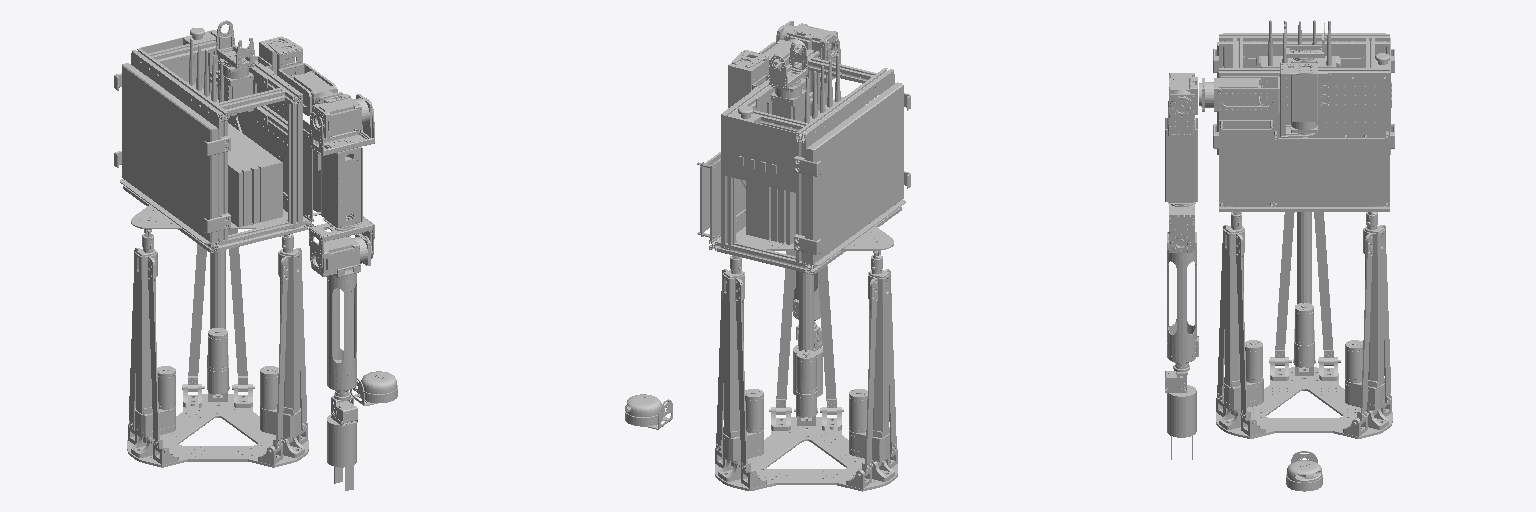
robot.urdf — hrvl_gbot:
<?xml version="1.0" ?>
<robot name="hrvl_gbot">
    <material name="orange">
        <color rgba="0.57 0.17 0.0 1.0" />
    </material>
    <material name="white">
        <color rgba="0.8 0.8 0.8 1.0" />
    </material>
    <material name="whiteT">
        <color rgba="0.8 0.8 0.8 0.5" />
    </material>
    <material name="steel">
        <color rgba="0.75 0.75 0.75 0.30" />
    </material>
    <material name="gray">
        <color rgba="0.2 0.2 0.2 0.9" />
    </material>
    <material name="black">
        <color rgba="0.0 0.0 0.0 1.0" />
    </material>
    <link name="base_footprint" />
    <link name="wheel1">
        <visual>
            <geometry>
                <mesh filename="package://onine_description/stl/MPO-500-WHEEL.dae" scale="-0.0006 0.0005 0.0006" />
            </geometry>
            <material name="white" />
            <origin rpy="0 0 0" xyz="0 0 0" />
        </visual>
        
	<inertial>
            <mass value="0.1" />
            <inertia ixx="0.03" iyy="0.03" izz="0.03" ixy="0.0" ixz="0.0" iyz="0.0" />
        </inertial>

    </link>
    <joint name="wheel1_joint" type="continuous">
        <axis xyz="0 1 0" />
        <limit effort="1000.0" velocity="1.0" />
        <origin rpy="0 0 0" xyz="0.20 0.225 -0.02" />
        <parent link="base_footprint" />
        <child link="wheel1" />
    </joint>
    <link name="wheel2">
        <visual>
            <geometry>
                <mesh filename="package://onine_description/stl/MPO-500-WHEEL.dae" scale="0.0006 0.0005 0.0006" />
            </geometry>
            <material name="white" />
            <origin rpy="0 0 0" xyz="0 0 0" />
        </visual>
        
<inertial>
            <mass value="0.1" />
            <inertia ixx="0.03" iyy="0.03" izz="0.03" ixy="0.0" ixz="0.0" iyz="0.0" />
        </inertial>

    </link>
    <joint name="wheel2_joint" type="continuous">
        <axis xyz="0 1 0" />
        <limit effort="1000.0" velocity="1.0" />
        <origin rpy="0 0 0" xyz="0.20 -0.225 -0.02" />
        <parent link="base_footprint" />
        <child link="wheel2" />
    </joint>
    <link name="wheel3">
        <visual>
            <geometry>
                <mesh filename="package://onine_description/stl/MPO-500-WHEEL.dae" scale="0.0006 0.0005 0.0006" />
            </geometry>
            <material name="white" />
            <origin rpy="0 0 0" xyz="0 0 0" />
        </visual>
        
<inertial>
            <mass value="0.1" />
            <inertia ixx="0.03" iyy="0.03" izz="0.03" ixy="0.0" ixz="0.0" iyz="0.0" />
        </inertial>

    </link>
    <joint name="wheel3_joint" type="continuous">
        <axis xyz="0 1 0" />
        <limit effort="1000.0" velocity="1.0" />
        <origin rpy="0 0 0" xyz="-0.20 0.225 -0.02" />
        <parent link="base_footprint" />
        <child link="wheel3" />
    </joint>
    <link name="wheel4">
        <visual>
            <geometry>
                <!--<cylinder length="0.055" radius=".075" /> -->
                <mesh filename="package://onine_description/stl/MPO-500-WHEEL.dae" scale="-0.0006 0.0005 0.0006" />
            </geometry>
            <material name="white" />
            <origin rpy="0 0 0" xyz="0 0 0" />
        </visual>
        
<inertial>
            <mass value="0.1" />
            <inertia ixx="0.03" iyy="0.03" izz="0.03" ixy="0.0" ixz="0.0" iyz="0.0" />
        </inertial>

    </link>
    <joint name="wheel4_joint" type="continuous">
        <axis xyz="0 1 0" />
        <limit effort="1000.0" velocity="1.0" />
        <origin rpy="0 0 0" xyz="-0.20 -0.225 -0.02" />
        <parent link="base_footprint" />
        <child link="wheel4" />
    </joint>
    <!-- Sensors -->
    <link name="rotlidar_link">
        <visual>
            <geometry>
                <!--<cylinder length="0.055" radius=".075" /> -->
                <mesh filename="package://onine_description/stl/RotatingLidar3_front_only.STL" scale="0.001 0.001 0.001" />
            </geometry>
            <material name="white" />
            <origin rpy="0 0 0" xyz="-0.0513 -0.0278 -0.033" />
        </visual>
        
<inertial>
            <mass value="0.1" />
            <inertia ixx="0.03" iyy="0.03" izz="0.03" ixy="0.0" ixz="0.0" iyz="0.0" />
        </inertial>

    </link>
    <joint name="rotlidar_joint" type="revolute">
        <axis xyz="1 0 0" />
        <limit effort="1000.0" lower="-3.141592" upper="3.141592" velocity="1.0" />
        <origin rpy="0 0 0" xyz="0.3133 0 0.26475" />
        <parent link="base_footprint" />
        <child link="rotlidar_link" />
    </joint>
    <link name="base_link">
        <visual>
            <geometry>
                <mesh filename="package://onine_description/stl/MobilePlatform_BodyOnly.STL" scale="0.001 0.001 0.001" />
            </geometry>
            <material name="white" />
            <origin rpy="0 -1.570796 3.141592" xyz="-0.2 0 0" />
        </visual>
        
<inertial>
            <mass value="0.1" />
            <inertia ixx="0.03" iyy="0.03" izz="0.03" ixy="0.0" ixz="0.0" iyz="0.0" />
        </inertial>

    </link>
    <joint name="base_link_joint" type="fixed">
        <axis xyz="0 0 1" />
        <origin rpy="0 0 0" xyz="0 0 0" />
        <parent link="base_footprint" />
        <child link="base_link" />
    </joint>
    <link name="waist_link">
        <visual>
            <geometry>
                <mesh filename="package://onine_description/stl/Waist_Final_Simple.STL" scale="0.001 0.001 0.001" />
            </geometry>
            <material name="white" />
            <origin rpy="1.570796 0 1.570796 " xyz="-0.205 0 -0.136" />
        </visual>
        
<inertial>
            <mass value="0.1" />
            <inertia ixx="0.03" iyy="0.03" izz="0.03" ixy="0.0" ixz="0.0" iyz="0.0" />
        </inertial>

    </link>
    <joint name="waist_link_joint" type="fixed">
        <axis xyz="0 0 1" />
        <origin rpy="0 0 0" xyz="-0.016 0 0.365" />
        <parent link="base_link" />
        <child link="waist_link" />
    </joint>
    <link name="torso_link_x" />
    <joint name="torso_joint_x" type="revolute">
        <axis xyz="1 0 0" />
        <origin rpy="0 0 0" xyz="-0.016 0 0.730" />
        <limit effort="1000.0" lower="-0.33" upper="0.33" velocity="1.0" />
        <parent link="base_footprint" />
        <child link="torso_link_x" />
    </joint>
    <link name="torso_link_y">
        <visual>
            <geometry>
                <mesh filename="package://onine_description/stl/BodyBox.STL" scale="0.001 0.001 0.001" />
            </geometry>
            <material name="white" />
            <!--<origin rpy="0 0 0" xyz="0 0 0.5125" />-->
            <origin rpy="1.570796 0 1.570796" xyz="0 0 0" />
        </visual>
        
<inertial>
            <mass value="0.1" />
            <inertia ixx="0.03" iyy="0.03" izz="0.03" ixy="0.0" ixz="0.0" iyz="0.0" />
        </inertial>

    </link>
    <joint name="torso_joint_y" type="revolute">
        <axis xyz="0 1 0" />
        <origin rpy="0 0 0" xyz="0 0 0" />
        <limit effort="1000.0" lower="-0.25" upper="0.3" velocity="1.0" />
        <parent link="torso_link_x" />
        <child link="torso_link_y" />
    </joint>
    <link name="neck_link_z">
        <visual>
            <geometry>
                <!--> <box size="0.054 0.054 0.138" /> -->
                <mesh filename="package://onine_description/stl/FRP42-H210_with_axis.STL" scale="0.001 0.001 0.001" />
            </geometry>
            <material name="white" />
            <origin rpy="1.570796 0 1.570796" xyz="-0.021 -0.0415 -0.052" />
            <!--<origin rpy="1.570796 0 1.570796" xyz="0 0 0" /> -->
        </visual>
        
<inertial>
            <mass value="0.1" />
            <inertia ixx="0.03" iyy="0.03" izz="0.03" ixy="0.0" ixz="0.0" iyz="0.0" />
        </inertial>

    </link>
    <joint name="neck_joint_z" type="revolute">
        <axis xyz="0 0 1" />
        <origin rpy="0 0 0" xyz="0 0 0.370" />
	<!-- +- 110 degrees -->
        <limit effort="1000.0" lower="-1.91" upper="1.91" velocity="1.0" />
        <parent link="torso_link_y" />
        <child link="neck_link_z" />
    </joint>
    <link name="neck_link_y">
        <visual>
            <geometry>
                <!--><box size="0.042 0.042 0.0835" /> -->
                <mesh filename="package://onine_description/stl/Head_PanTiltModule_Fixed.STL" scale="0.001 0.001 0.001" />
            </geometry>
            <material name="white" />
            <!--<origin rpy="0 0 0" xyz="0 0 0.5125" />-->
            <origin rpy="1.570796 0 1.570796" xyz="0 0 0" />
        </visual>
        
<inertial>
            <mass value="0.1" />
            <inertia ixx="0.03" iyy="0.03" izz="0.03" ixy="0.0" ixz="0.0" iyz="0.0" />
        </inertial>

    </link>
    <joint name="neck_joint_y" type="revolute">
        <axis xyz="0 1 0" />
        <origin rpy="0 0 0" xyz="0 0 0" />
	<!-- -30 ~ 70 degrees -->
        <limit effort="1000.0" lower="-0.523" upper="1.22" velocity="1.0" />
        <parent link="neck_link_z" />
        <child link="neck_link_y" />
    </joint>
    <link name="lidar_link" />
    <joint name="lidar_joint" type="fixed">
        <axis xyz="0 0 1" />
        <origin rpy="0 0 0" xyz="0 0 0.07" />
        <parent link="neck_link_y" />
        <child link="lidar_link" />
    </joint>
    <link name="kinect_link" />
    <joint name="kinect_joint" type="fixed">
        <axis xyz="1 0 0" />
        <!--origin rpy="0 0 0" xyz="0.095 0 0.155" /-->
        <origin rpy="0 0 0" xyz="0.095 0 0.155" />
        <parent link="neck_link_y" />
        <child link="kinect_link" />
    </joint>
    <link name="zed_link" />
    <joint name="zed_joint" type="fixed">
        <axis xyz="1 0 0" />
        <!--origin rpy="0 0 0" xyz="0.1 0 0.200" /-->
        <origin rpy="0 1.570796 0" xyz="0.1 0 0.200" />
        <parent link="neck_link_y" />
        <child link="zed_link" />
    </joint>
    <link name="arm_mid_motor_link" />
    <joint name="arm_mid_motor_joint" type="fixed">
        <axis xyz="0 0 1" />
        <origin rpy="0 0 0" xyz="0.1 0 0.273" />
        <parent link="torso_link_y" />
        <child link="arm_mid_motor_link" />
    </joint>
    <link name="arm_mid_motor_link_z">
        <visual>
            <geometry>
                <!-- <box size="0.054 0.210 0.054" /> -->
                <mesh filename="package://onine_description/stl/center_rotation_module_fixed.STL" scale="0.001 0.001 0.001" />
            </geometry>
            <material name="white" />
            <!--<origin rpy="0 0 0" xyz="0 0 0.5125" />-->
            <origin rpy="-1.570796 0 -1.570796" xyz="-0.027 0.21752 0.027" />
        </visual>
        
<inertial>
            <mass value="0.1" />
            <inertia ixx="0.03" iyy="0.03" izz="0.03" ixy="0.0" ixz="0.0" iyz="0.0" />
        </inertial>

    </link>
    <joint name="arm_mid_motor_joint_z" type="revolute">
        <axis xyz="0 0 1" />
        <origin rpy="3.141592 0 0" xyz="0 0 0" />
        <limit effort="1000.0" lower="-3.141592" upper="0" velocity="1.0" />
        <parent link="arm_mid_motor_link" />
        <child link="arm_mid_motor_link_z" />
    </joint>
    <link name="arm_shoulder_link_y">
        <visual>
            <geometry>
                <mesh filename="package://onine_description/stl/ShoulderYChild.STL" scale="0.001 0.001 0.001" />
            </geometry>
            <material name="white" />
            <origin rpy="-1.570796 0 0" xyz="-0.054 0 0.054" />
        </visual>
        
<inertial>
            <mass value="0.1" />
            <inertia ixx="0.03" iyy="0.03" izz="0.03" ixy="0.0" ixz="0.0" iyz="0.0" />
        </inertial>

    </link>
    <joint name="arm_shoulder_joint_y" type="revolute">
        <axis xyz="0 1 0" />
        <origin rpy="0 0 0" xyz="0 0.250 0" />
        <limit effort="1000.0" lower="-3.141592" upper="3.141592" velocity="1.0" />
        <parent link="arm_mid_motor_link_z" />
        <child link="arm_shoulder_link_y" />
    </joint>
    <link name="arm_shoulder_link_x">
        <visual>
            <geometry>
                <mesh filename="package://onine_description/stl/ArmUpperZ.STL" scale="0.001 0.001 0.001" />
            </geometry>
            <material name="white" />
            <!--<origin rpy="0 0 0" xyz="0 0 0.5125" />-->
            <origin rpy="3.141592 0 0" xyz="-0.06 0.027 0.0155" />
        </visual>
        
<inertial>
            <mass value="0.1" />
            <inertia ixx="0.03" iyy="0.03" izz="0.03" ixy="0.0" ixz="0.0" iyz="0.0" />
        </inertial>

    </link>
    <joint name="arm_shoulder_joint_x" type="revolute">
        <axis xyz="1 0 0" />
        <origin rpy="3.141592 0 0" xyz="0 0 0" />
        <limit effort="1000.0" lower="-3.141592" upper="0.52" velocity="1.0" />
        <parent link="arm_shoulder_link_y" />
        <child link="arm_shoulder_link_x" />
    </joint>
    <link name="arm_shoulder_link_z">
        <visual>
            <geometry>
                <!-- <cylinder length="0.050" radius=".030" /> -->
                <mesh filename="package://onine_description/stl/ArmElbow.STL" scale="0.001 0.001 0.001" />
            </geometry>
            <material name="white" />
            <origin rpy="1.570796 0 1.570796" xyz="-0.06 -0.027 -0.0235" />
        </visual>
        
<inertial>
            <mass value="0.1" />
            <inertia ixx="0.03" iyy="0.03" izz="0.03" ixy="0.0" ixz="0.0" iyz="0.0" />
        </inertial>

    </link>
    <joint name="arm_shoulder_joint_z" type="revolute">
        <axis xyz="0 0 -1" />
        <!-- upper 120 degree, lower -90 degree -->
        <limit effort="1000.0" lower="-1.570796" upper="2.094394" velocity="1.0" />
        <origin rpy="0 0 0" xyz="0 0 -0.305" />
        <parent link="arm_shoulder_link_x" />
        <child link="arm_shoulder_link_z" />
    </joint>
    <link name="arm_lower_link_x">
        <visual>
            <geometry>
                <mesh filename="package://onine_description/stl/ArmLower.STL" scale="0.001 0.001 0.001" />
            </geometry>
            <material name="white" />
            <origin rpy="3.141592 0 -1.570796" xyz="0.051 0.0155 0.025" />
        </visual>
        
<inertial>
            <mass value="0.1" />
            <inertia ixx="0.03" iyy="0.03" izz="0.03" ixy="0.0" ixz="0.0" iyz="0.0" />
        </inertial>

    </link>
    <joint name="arm_lower_joint_x" type="revolute">
        <axis xyz="1 0 0" />
        <origin rpy="0 0 0" xyz="0 0 0" />
	<!-- Human-like motion??? for this lower should be fixed as 0 --> 
        <limit effort="1000.0" lower="0" upper="2.10" velocity="1.0" />
        <parent link="arm_shoulder_link_z" />
        <child link="arm_lower_link_x" />
    </joint>
    <link name="wrist_roll_link">
        <visual>
            <geometry>
                <mesh filename="package://onine_description/stl/wrist_roll.STL" scale="0.001 0.001 0.001" />
            </geometry>
            <material name="white" />
            <origin rpy="3.141592 0 0" xyz="-0.02 0.017 0.021" />
        </visual>
        
<inertial>
            <mass value="0.1" />
            <inertia ixx="0.03" iyy="0.03" izz="0.03" ixy="0.0" ixz="0.0" iyz="0.0" />
        </inertial>

    </link>
    <joint name="wrist_roll_joint" type="revolute">
        <axis xyz="0 0 -1" />
	<!-- plus-minus 120 degree -->
        <limit effort="1000.0" lower="-2.1" upper="2.1" velocity="1.0" />
        <origin rpy="0 0 0" xyz="0 0 -0.300" />
        <parent link="arm_lower_link_x" />
        <child link="wrist_roll_link" />
    </joint>
    <link name="wrist_pitch_link">
        <visual>
            <geometry>
                <mesh filename="package://onine_description/stl/wrist_end.STL" scale="0.001 0.001 0.001" />
            </geometry>
            <material name="white" />
            <origin rpy="3.141592 1.570796 3.141592" xyz="-0.02 -0.03525 0.01425" />
        </visual>
        
<inertial>
            <mass value="0.1" />
            <inertia ixx="0.03" iyy="0.03" izz="0.03" ixy="0.0" ixz="0.0" iyz="0.0" />
        </inertial>

    </link>
    <joint name="wrist_pitch_joint" type="revolute">
        <axis xyz="1 0 0" />
        <limit effort="1000.0" lower="-0.46" upper="1.570796" velocity="1.0" />
        <origin rpy="0 0 0" xyz="0 0 -0.040" />
        <parent link="wrist_roll_link" />
        <child link="wrist_pitch_link" />
    </joint>
    <link name="tool_link">
        <visual>
            <geometry>
                <cylinder length="0.0925" radius=".03" />
            </geometry>
            <material name="white" />
            <origin rpy="0 1.570796 0" xyz="-0.04514 0 0" />
        </visual>
    </link>
    <joint name="tool_link_joint" type="fixed">
        <axis xyz="1 0 0" />
        <origin rpy="0 1.570996 0" xyz="0.00 0 -0.1125" />
        <parent link="wrist_pitch_link" />
        <child link="tool_link" />
    </joint>
    <link name="left_gripper_link">
        <visual>
            <geometry>
                <box size="0.02 0.002 0.055" />
            </geometry>
            <material name="white" />
            <origin rpy="0 1.570796 0" xyz="-0.0275 0 0" />
        </visual>
    </link>
    <joint name="gripper_joint" type="prismatic">
        <axis xyz="0 1 0" />
        <limit effort="1000.0" lower="0.002" upper="0.04" velocity="1.0" />
        <parent link="tool_link" />
        <origin rpy="0 0 0" xyz=".0576 0 0.005" />
        <child link="left_gripper_link" />
    </joint>
    <link name="right_gripper_link">
        <visual>
            <geometry>
                <box size="0.02 0.002 0.055" />
            </geometry>
            <material name="white" />
            <origin rpy="0 1.570796 0" xyz="-0.0275 0 0" />
        </visual>
    </link>
    <joint name="sub_gripper_joint" type="prismatic">
        <axis xyz="0 -1 0" />
        <mimic joint="gripper_joint" />
        <limit effort="1000.0" lower="0.002" upper="0.04" velocity="1.0" />
        <origin rpy="0 0 0" xyz="0.0576 0 0.005" />
        <parent link="tool_link" />
        <child link="right_gripper_link" />
    </joint>
</robot>

--- What the picture shows (computed from the rendered views, not written in the file) ---
Views: 3 orthographic renders of the robot side by side, from view 1: azimuth 30°, elevation 25°; view 2: azimuth 150°, elevation 25°; view 3: azimuth 270°, elevation 25°.
Model hrvl_gbot with 26 links and 25 joints (12 revolute, 4 continuous, 2 prismatic, 7 fixed), rooted at base_footprint, posed joints at zero except 2 at the middle of their limits (gripper_joint = 0.021, sub_gripper_joint = 0.021).
Links seen in each view (by area): view 1: torso_link_y, waist_link, arm_lower_link_x, arm_shoulder_link_x, arm_mid_motor_link_z, arm_shoulder_link_y, tool_link, rotlidar_link, arm_shoulder_link_z, neck_link_z, wrist_pitch_link; view 2: torso_link_y, waist_link, rotlidar_link, arm_mid_motor_link_z, arm_shoulder_link_y, neck_link_z; view 3: torso_link_y, waist_link, arm_mid_motor_link_z, arm_shoulder_link_x, arm_lower_link_x, tool_link, rotlidar_link, arm_shoulder_link_z, arm_shoulder_link_y, neck_link_z.
Link boxes in pixels (left/top/right/bottom): torso_link_y: left=114, top=28, right=320, bottom=252; waist_link: left=127, top=205, right=308, bottom=467; arm_lower_link_x: left=311, top=233, right=372, bottom=391; arm_shoulder_link_x: left=309, top=106, right=374, bottom=230; arm_mid_motor_link_z: left=267, top=37, right=342, bottom=115; arm_shoulder_link_y: left=312, top=94, right=372, bottom=138; tool_link: left=327, top=415, right=356, bottom=467; rotlidar_link: left=350, top=371, right=397, bottom=405; arm_shoulder_link_z: left=309, top=216, right=374, bottom=270; neck_link_z: left=216, top=20, right=254, bottom=68; wrist_pitch_link: left=331, top=401, right=357, bottom=426; torso_link_y: left=697, top=49, right=910, bottom=274; waist_link: left=715, top=226, right=897, bottom=491; rotlidar_link: left=625, top=394, right=672, bottom=429; arm_mid_motor_link_z: left=732, top=35, right=809, bottom=75; arm_shoulder_link_y: left=776, top=21, right=837, bottom=60; neck_link_z: left=769, top=42, right=807, bottom=88; torso_link_y: left=1213, top=20, right=1394, bottom=211; waist_link: left=1216, top=206, right=1392, bottom=438; arm_mid_motor_link_z: left=1199, top=63, right=1315, bottom=137; arm_shoulder_link_x: left=1165, top=98, right=1197, bottom=206; arm_lower_link_x: left=1167, top=223, right=1198, bottom=363; tool_link: left=1167, top=385, right=1196, bottom=437; rotlidar_link: left=1286, top=451, right=1322, bottom=491; arm_shoulder_link_z: left=1169, top=204, right=1194, bottom=252; arm_shoulder_link_y: left=1169, top=73, right=1197, bottom=117; neck_link_z: left=1284, top=23, right=1324, bottom=57.
Size in the robot's own frame: 0.6024 by 0.4713 by 0.9286 metres.
11 mesh visuals loaded from 14 distinct referenced files (11 binary STL); not drawn: 6 (reference not matched to a file when rendering).
